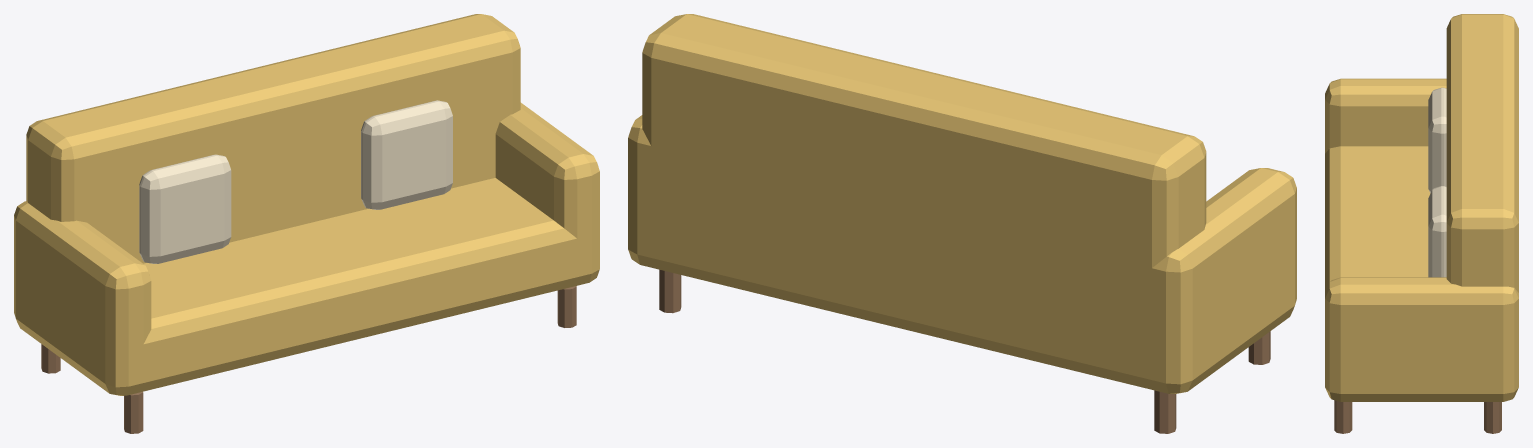
File: cafe-sofa.glb
3 views of the same model, side by side, from view 1: azimuth 30°, elevation 25°; view 2: azimuth 150°, elevation 25°; view 3: azimuth 270°, elevation 25° (orthographic). The views are drawn at different scales.
Visible parts, largest first — view 1: cafe-sofa; view 2: cafe-sofa; view 3: cafe-sofa.
Part boxes in pixels (left/top/right/bottom): cafe-sofa: left=14, top=14, right=599, bottom=433; cafe-sofa: left=628, top=14, right=1296, bottom=433; cafe-sofa: left=1325, top=14, right=1518, bottom=433.
Size of the model in its own units: 2 by 0.95 by 0.75.
